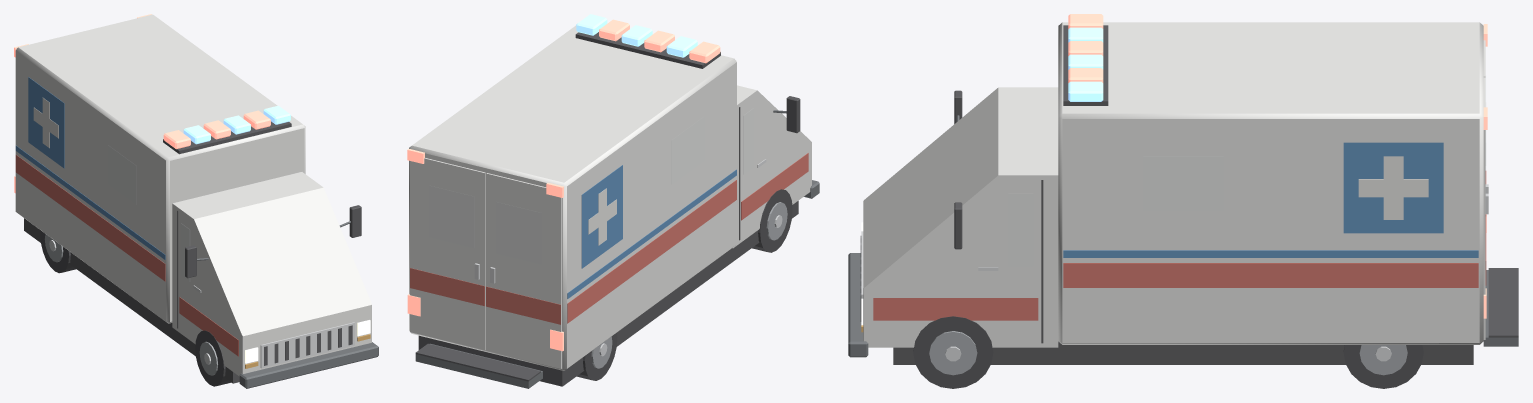
The model's file is ambulance.glb.
3 views of the same model, side by side, from view 1: azimuth 30°, elevation 25°; view 2: azimuth 150°, elevation 25°; view 3: azimuth 270°, elevation 25° (orthographic). The views are drawn at different scales.
Parts seen in each view (by area): view 1: ambulance_ambu_w, ambulance_dark, ambulance_ambu_r, ambulance_steel_d, ambulance_chrome, ambulance_blue, ambulance_glass, ambulance_rubber, ambulance_lens_r, ambulance_lens_b, ambulance_ambu_b, ambulance_steel (+2 smaller); view 2: ambulance_ambu_w, ambulance_ambu_r, ambulance_dark, ambulance_glass, ambulance_blue, ambulance_lens_r, ambulance_rubber, ambulance_lens_b, ambulance_steel_d, ambulance_ambu_b, ambulance_steel, ambulance_paint_w (+1 smaller); view 3: ambulance_ambu_w, ambulance_ambu_r, ambulance_dark, ambulance_blue, ambulance_glass, ambulance_rubber, ambulance_ambu_b, ambulance_steel, ambulance_paint_w, ambulance_steel_d, ambulance_lens_r, ambulance_lens_b (+1 smaller).
Boxes of the visible parts, bbox=[...] form: ambulance_ambu_w: bbox=[15, 14, 371, 376]; ambulance_dark: bbox=[24, 121, 361, 383]; ambulance_ambu_r: bbox=[15, 155, 238, 356]; ambulance_steel_d: bbox=[197, 221, 378, 388]; ambulance_chrome: bbox=[49, 240, 354, 368]; ambulance_blue: bbox=[28, 77, 64, 168]; ambulance_glass: bbox=[108, 146, 189, 280]; ambulance_rubber: bbox=[40, 230, 230, 386]; ambulance_lens_r: bbox=[14, 14, 270, 193]; ambulance_lens_b: bbox=[183, 105, 290, 144]; ambulance_ambu_b: bbox=[15, 145, 165, 259]; ambulance_steel: bbox=[44, 234, 217, 375]; ambulance_ambu_w: bbox=[409, 25, 811, 370]; ambulance_ambu_r: bbox=[410, 153, 808, 324]; ambulance_dark: bbox=[415, 32, 800, 386]; ambulance_glass: bbox=[429, 109, 753, 263]; ambulance_blue: bbox=[581, 165, 622, 268]; ambulance_lens_r: bbox=[407, 19, 720, 351]; ambulance_rubber: bbox=[576, 189, 792, 380]; ambulance_lens_b: bbox=[576, 14, 697, 57]; ambulance_steel_d: bbox=[415, 110, 819, 388]; ambulance_ambu_b: bbox=[567, 169, 736, 298]; ambulance_steel: bbox=[591, 202, 787, 368]; ambulance_paint_w: bbox=[588, 188, 616, 245]; ambulance_ambu_w: bbox=[863, 22, 1485, 347]; ambulance_ambu_r: bbox=[873, 171, 1486, 320]; ambulance_dark: bbox=[860, 25, 1518, 364]; ambulance_blue: bbox=[1343, 142, 1443, 233]; ambulance_glass: bbox=[1009, 156, 1222, 265]; ambulance_rubber: bbox=[913, 316, 1423, 388]; ambulance_ambu_b: bbox=[1063, 250, 1478, 257]; ambulance_steel: bbox=[929, 331, 1407, 375]; ambulance_paint_w: bbox=[1358, 156, 1428, 219]; ambulance_steel_d: bbox=[848, 115, 1518, 357]; ambulance_lens_r: bbox=[1068, 14, 1487, 318]; ambulance_lens_b: bbox=[1068, 27, 1103, 101].
Size of the model in its own units: 2.8 by 3.22 by 6.7.
